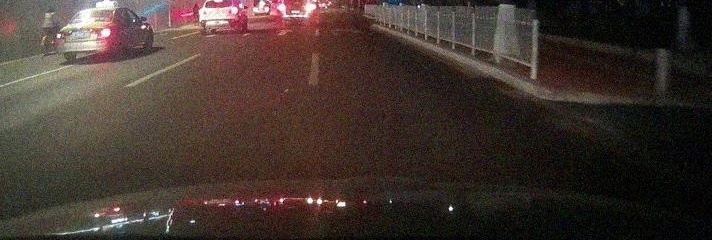L_light: (56, 30, 72, 38), (199, 9, 208, 15)
R_light: (90, 29, 110, 37), (225, 8, 239, 15)
T_light: (214, 0, 223, 3), (94, 11, 100, 13)
night-brake: (198, 0, 243, 34)
night-right: (56, 7, 117, 62)
